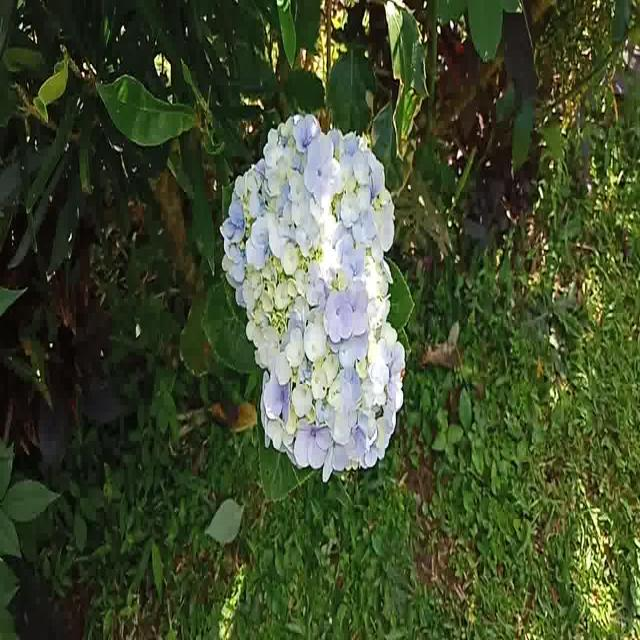Flower: (223, 109, 411, 483)
